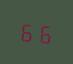six: (19, 18, 35, 43), (36, 20, 52, 45)
